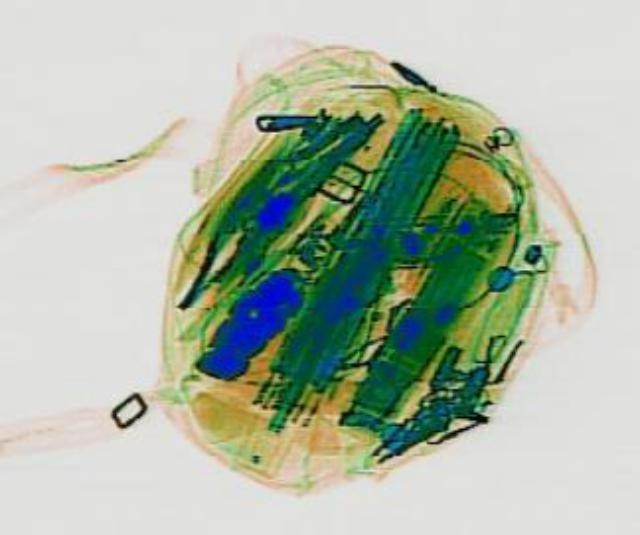Pliers: (160, 222, 250, 313)
